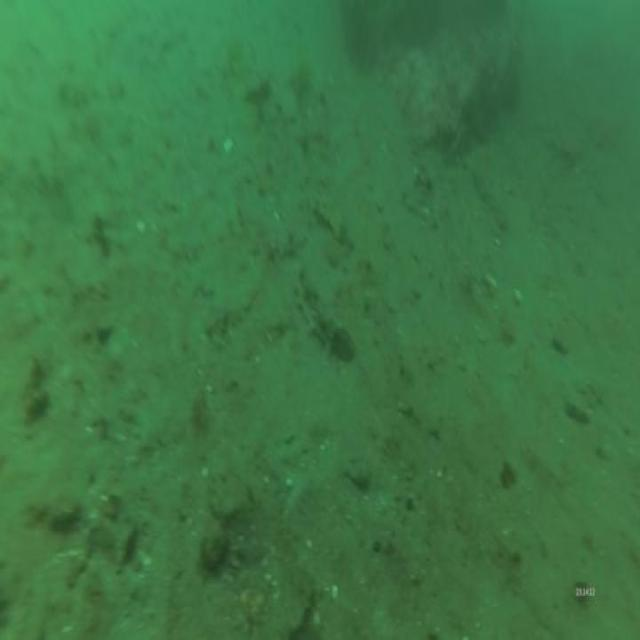holothurian: (294, 260, 358, 366)
